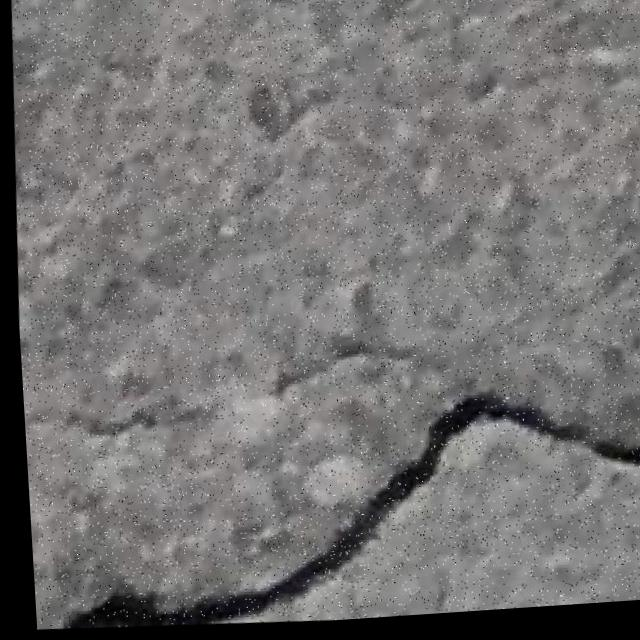Crack: (38, 354, 640, 639)
